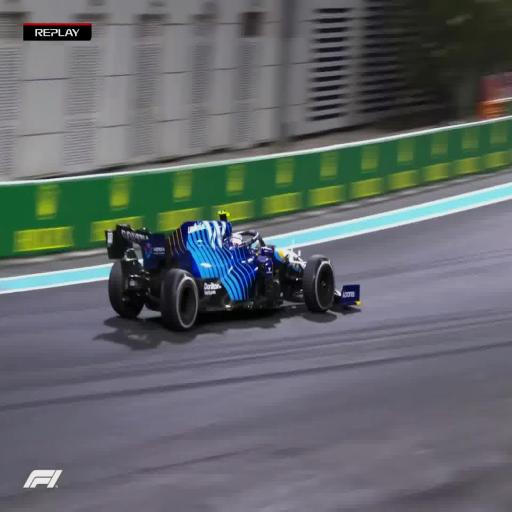f1_car: (105, 211, 360, 329)
